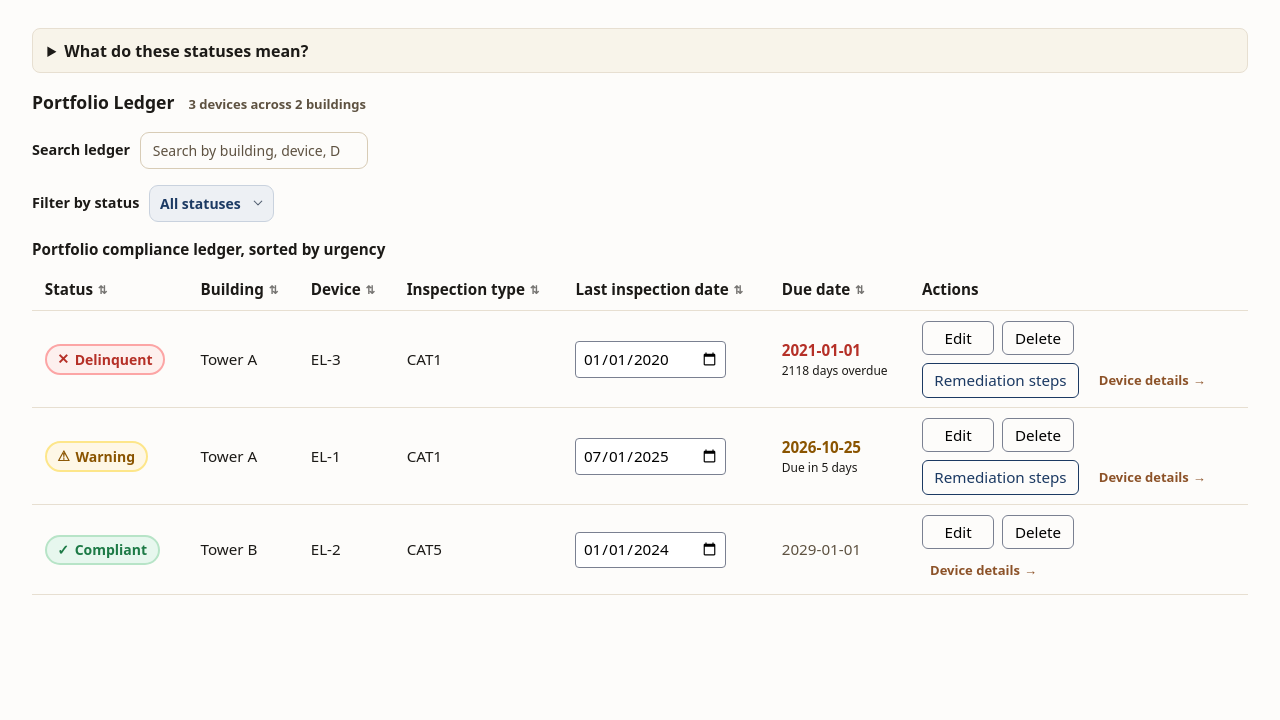
Test: LedgerPage › shows Warning-specific remediation copy (distinct from Delinquent's) when a Warning row's details are expanded
The image size is (1280, 720).
Click the button with aria-label "remediation steps for el-1": (1000, 478) 922,460 -> 1079,495
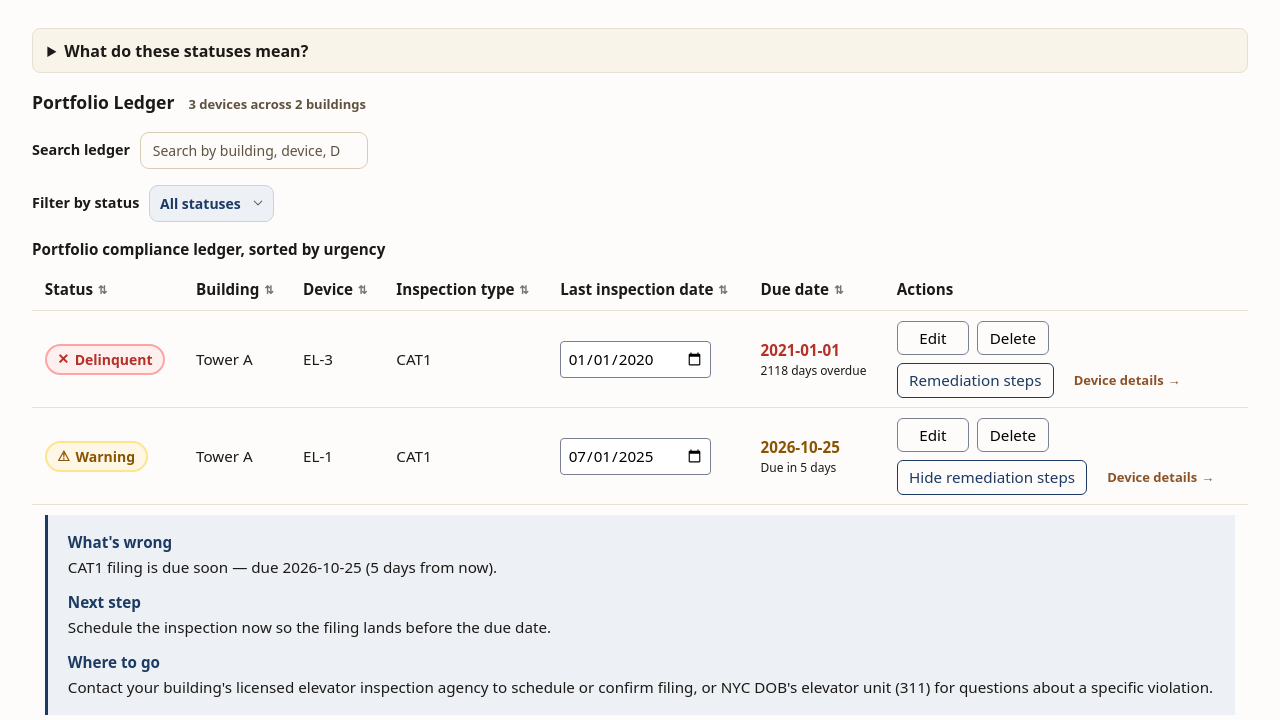
Result: the text "CAT1 filing is due soon — due 2026-10-25 (5 days from now)." is shown at 68,557 -> 497,577
Result: the text "Schedule the inspection now" is shown at 68,617 -> 551,637
